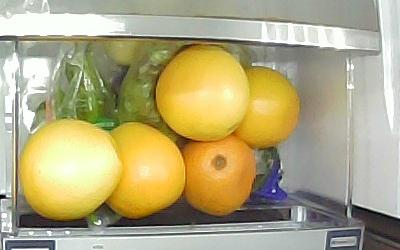grapefruit: (20, 118, 122, 221), (154, 43, 249, 141), (104, 122, 186, 219), (179, 132, 255, 217), (237, 66, 300, 149)
